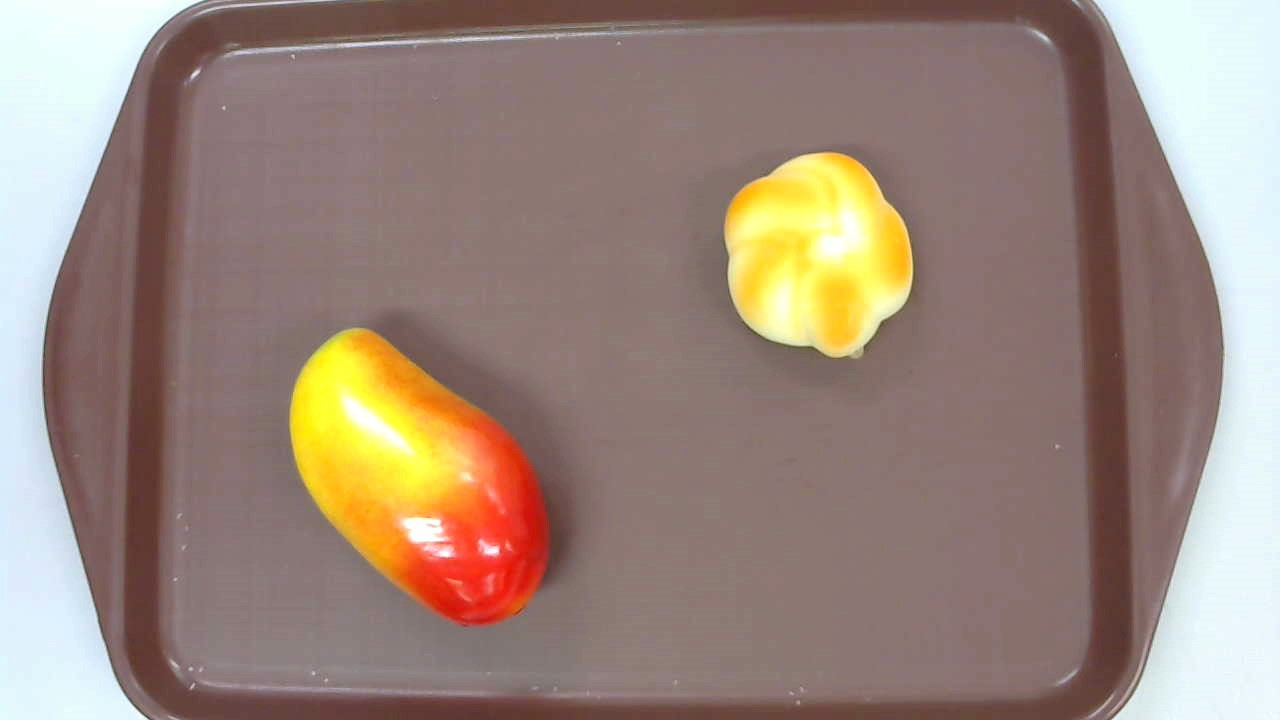red mango: (289, 328, 551, 627)
twist bread: (723, 150, 913, 360)
